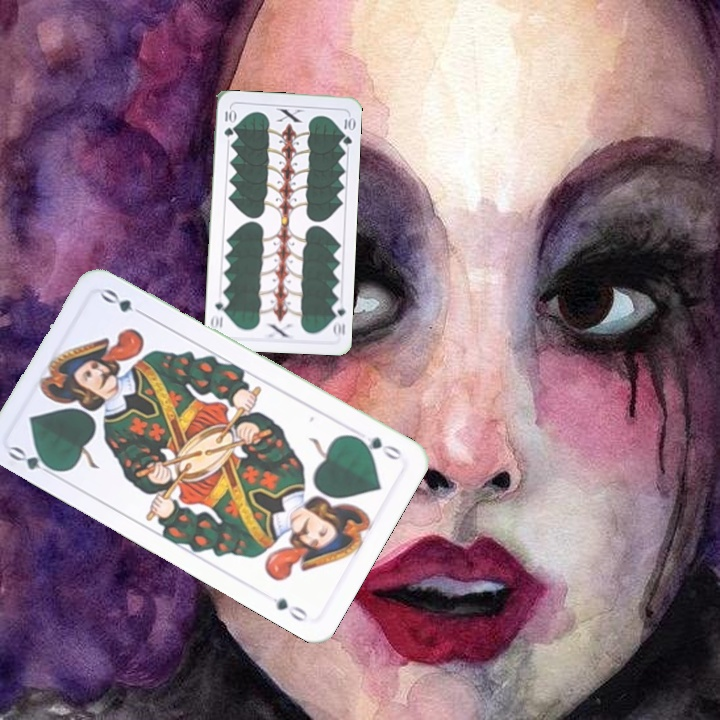G10: (328, 298, 348, 339), (220, 105, 236, 140)
GO: (4, 442, 62, 481), (349, 431, 405, 463)
